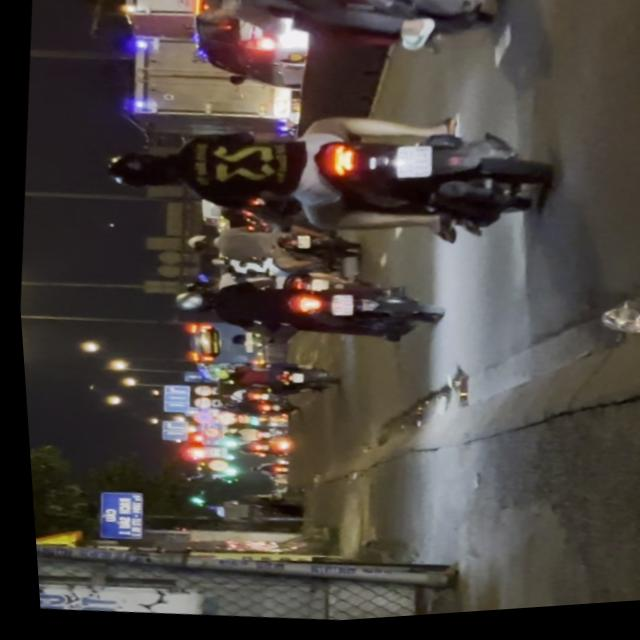helmet: (98, 143, 179, 194), (168, 288, 215, 319)
licenseplate: (88, 77, 556, 274), (119, 0, 511, 80), (159, 259, 434, 364)
nohelmet: (389, 146, 430, 184), (324, 296, 349, 319)
